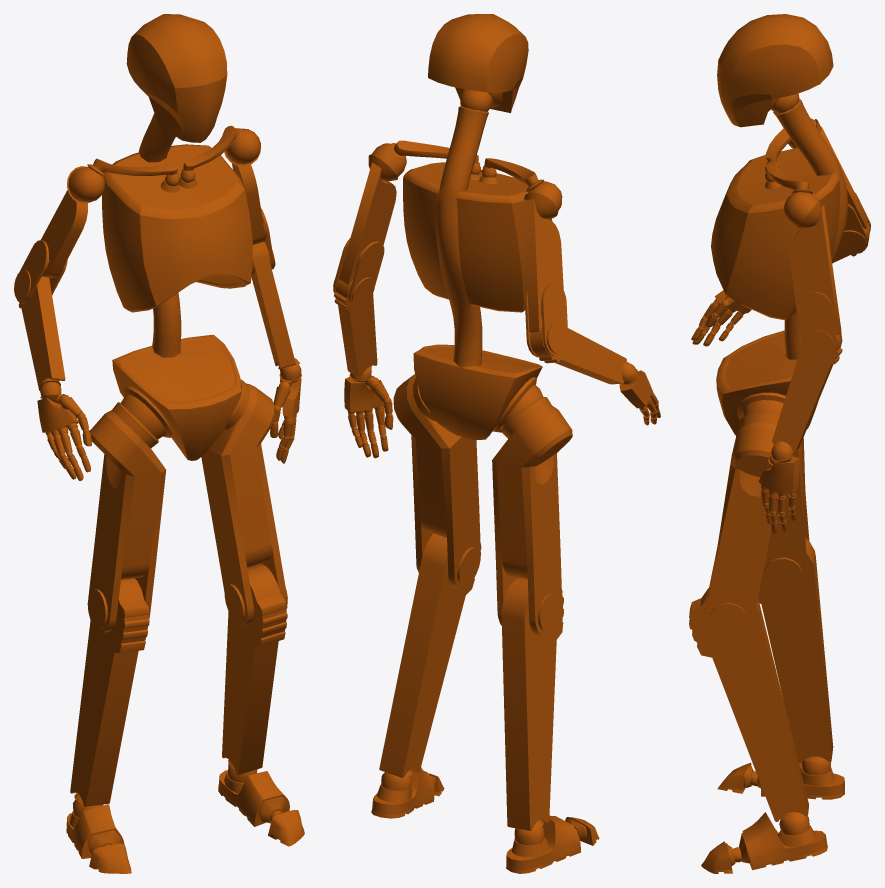
File: RobotAnimacja_000021.obj
3 views of the same model, side by side, from view 1: azimuth 30°, elevation 25°; view 2: azimuth 150°, elevation 25°; view 3: azimuth 270°, elevation 25° (orthographic).
Visible parts, largest first — view 1: free3dmodel.001; view 2: free3dmodel.001; view 3: free3dmodel.001.
Boxes of the visible parts, box(x1,y1,x2,y2) form: free3dmodel.001: box(14, 14, 304, 873); free3dmodel.001: box(333, 14, 660, 873); free3dmodel.001: box(689, 14, 870, 873).
Bounding box in the file's own units: 2.15 × 6.02 × 1.22.
